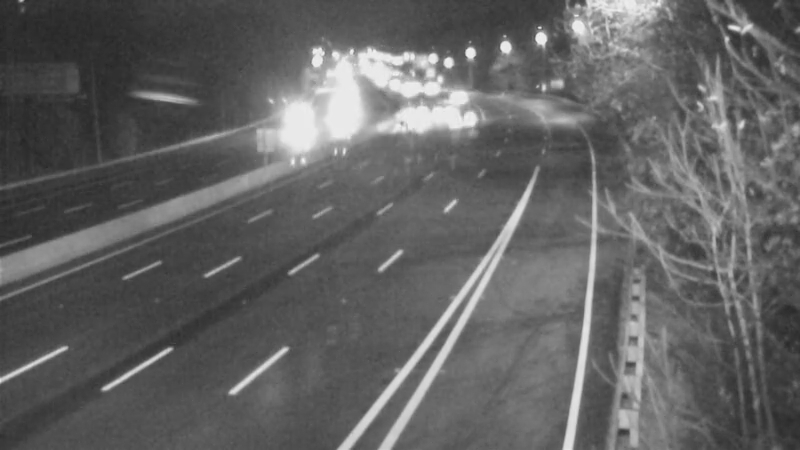vehicle: (431, 75, 481, 125), (409, 89, 459, 139), (435, 94, 485, 144), (389, 87, 439, 137), (375, 99, 425, 149), (266, 108, 316, 158), (315, 95, 365, 145)
